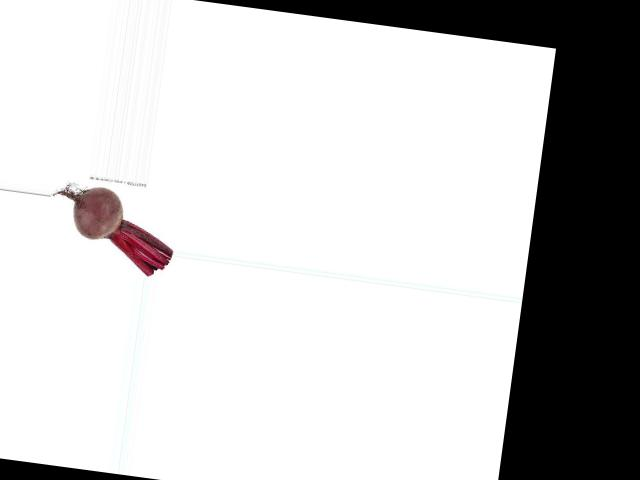beet: (44, 181, 180, 278)
